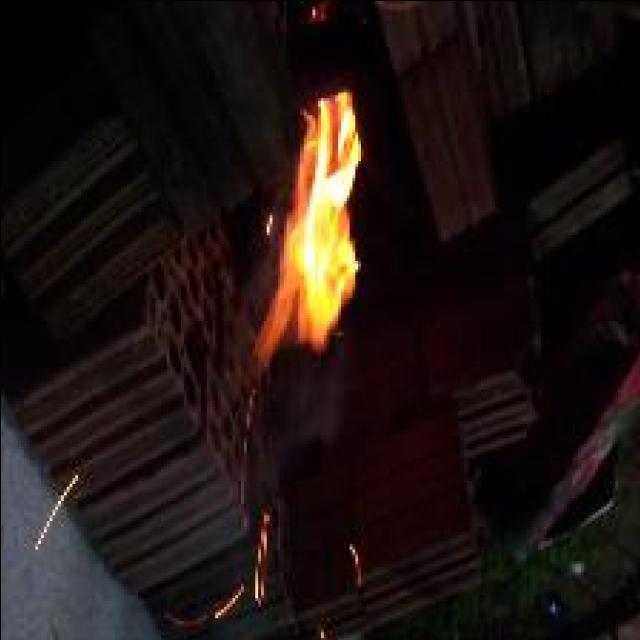Fire: (254, 92, 360, 366)
